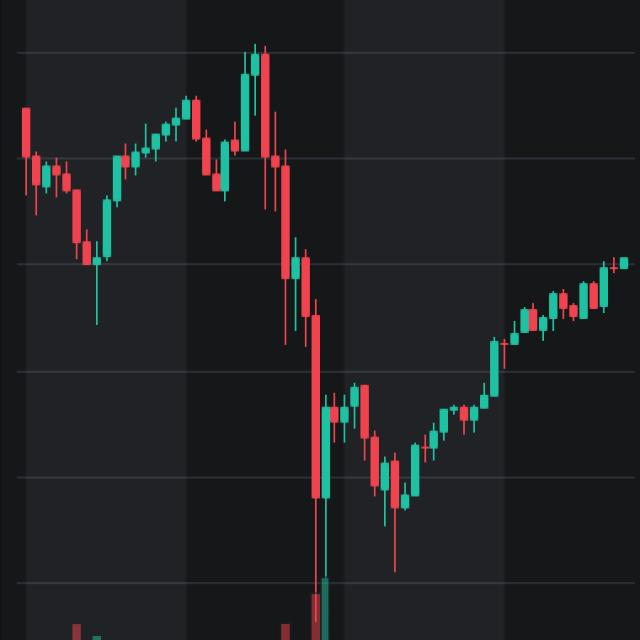Rising-Wedge: (286, 234, 635, 596)
